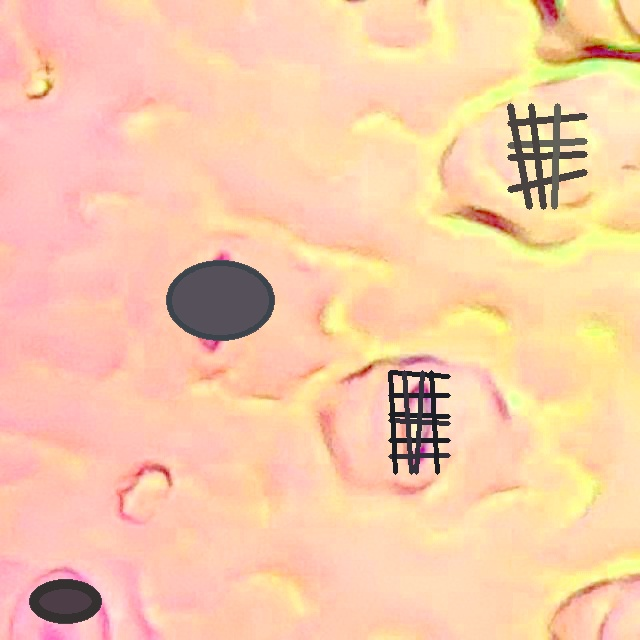close: (507, 104, 587, 209), (29, 579, 101, 623)
open: (166, 260, 273, 339), (388, 370, 449, 474)
